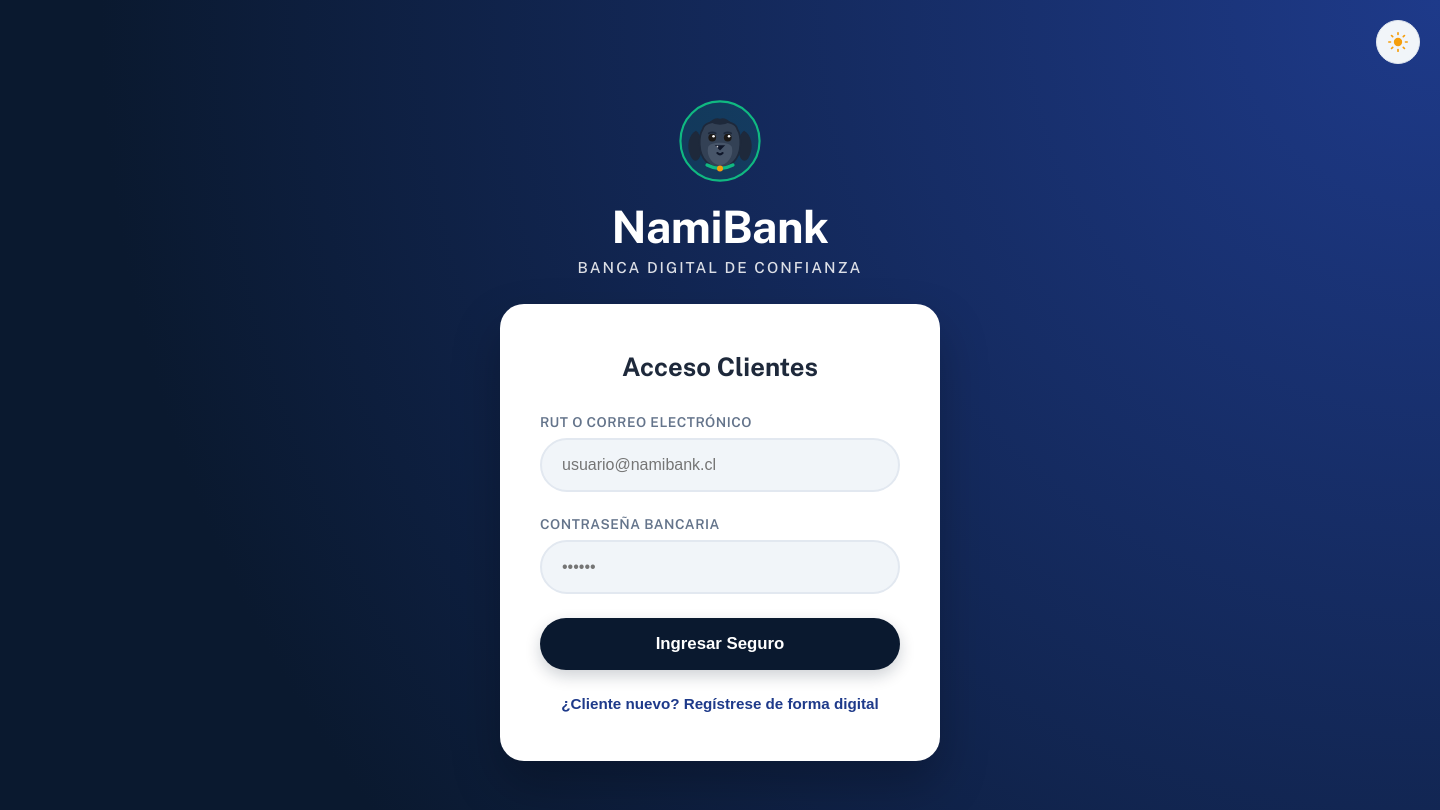
it: RT4 - Componente: Auth (Login y Registro) › 2. Muestra error si el servicio mockeado rechaza (credenciales inválidas)
Type "correo@malo.cl" into the field with placeholder "usuario@namibank.cl".
click(720, 464); type("correo@malo.cl")  # box [540,438,900,492]
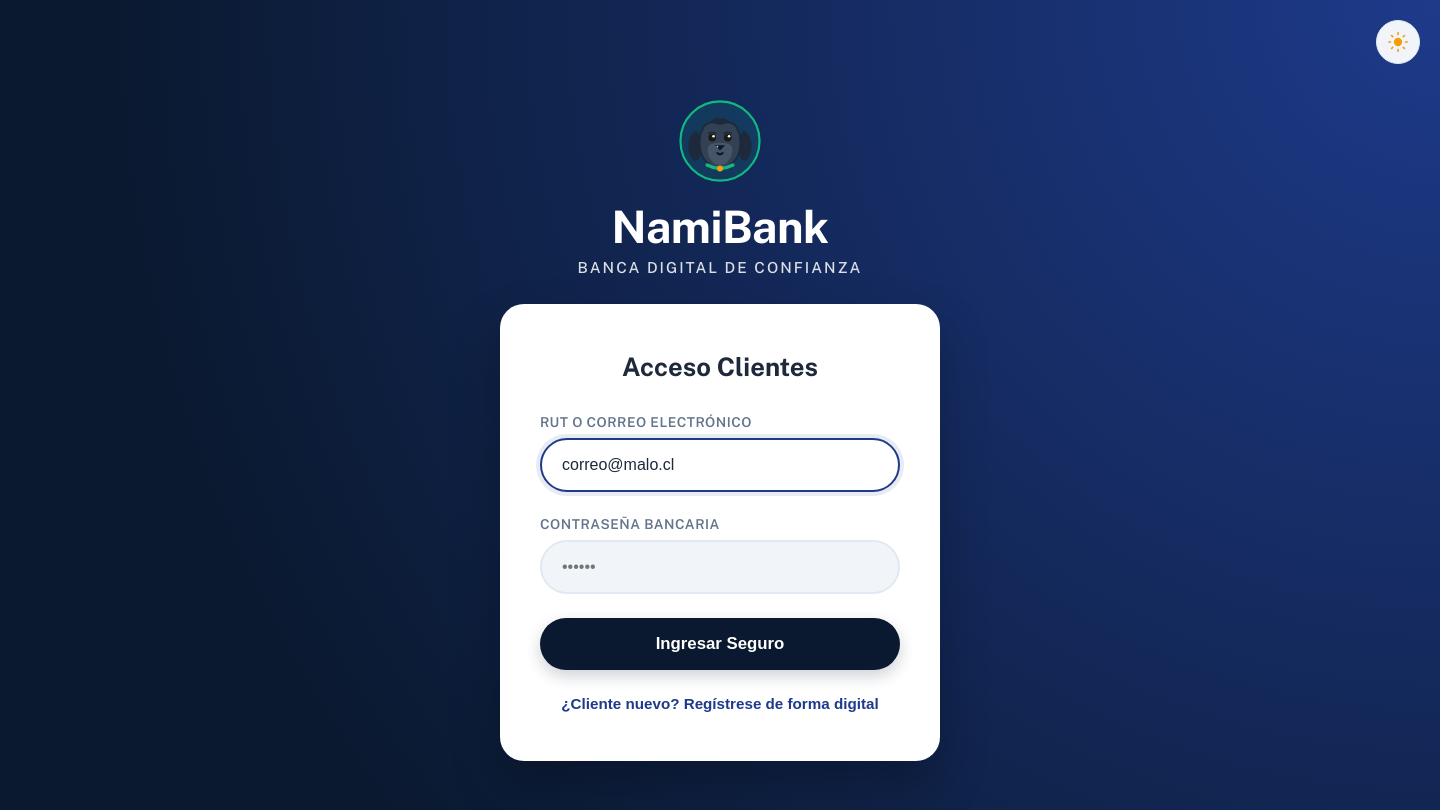
Type "123456" into the password field with placeholder "••••••".
click(720, 566); type("123456")  # box [540,540,900,594]
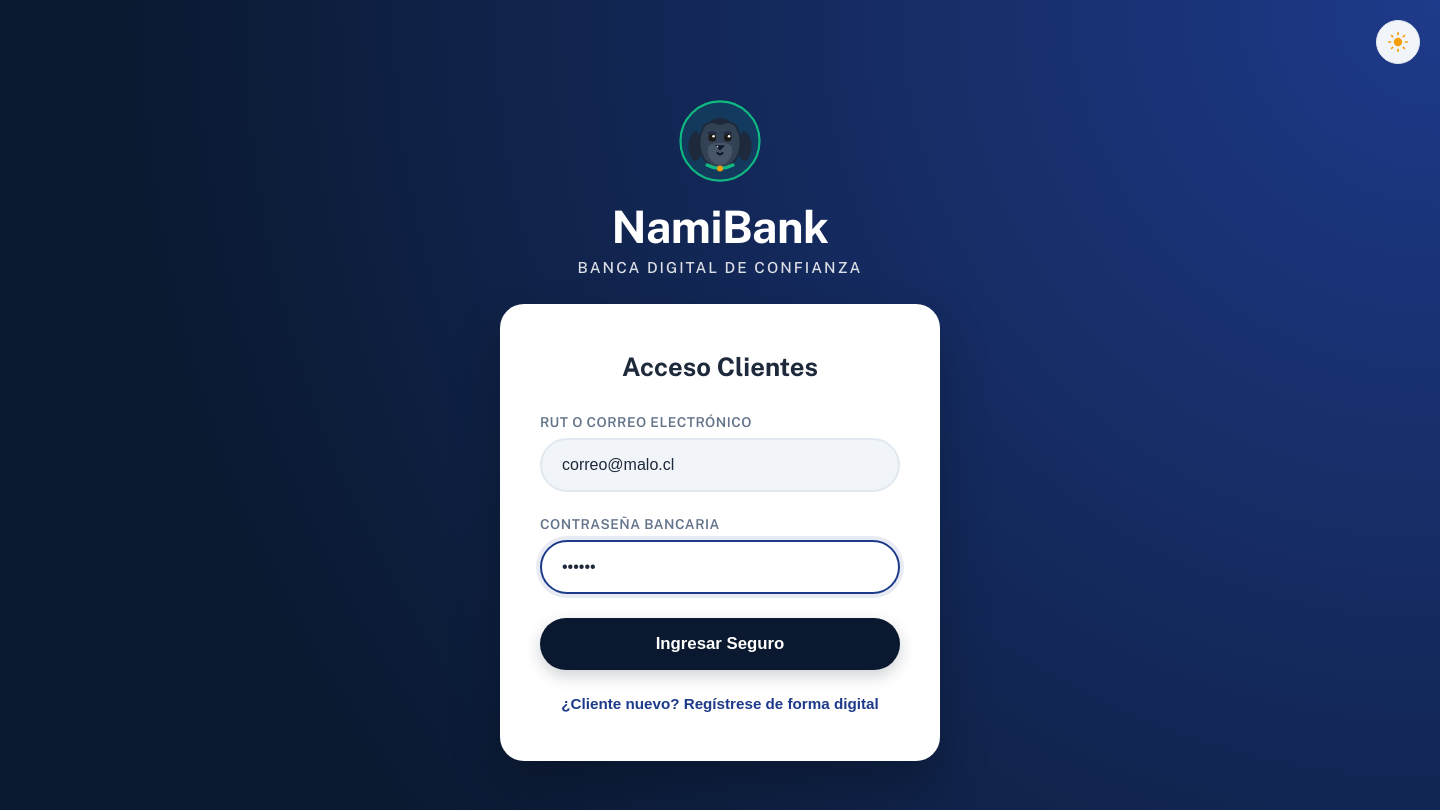
Click the button "Ingresar Seguro".
click(720, 644)  # box [540,618,900,670]
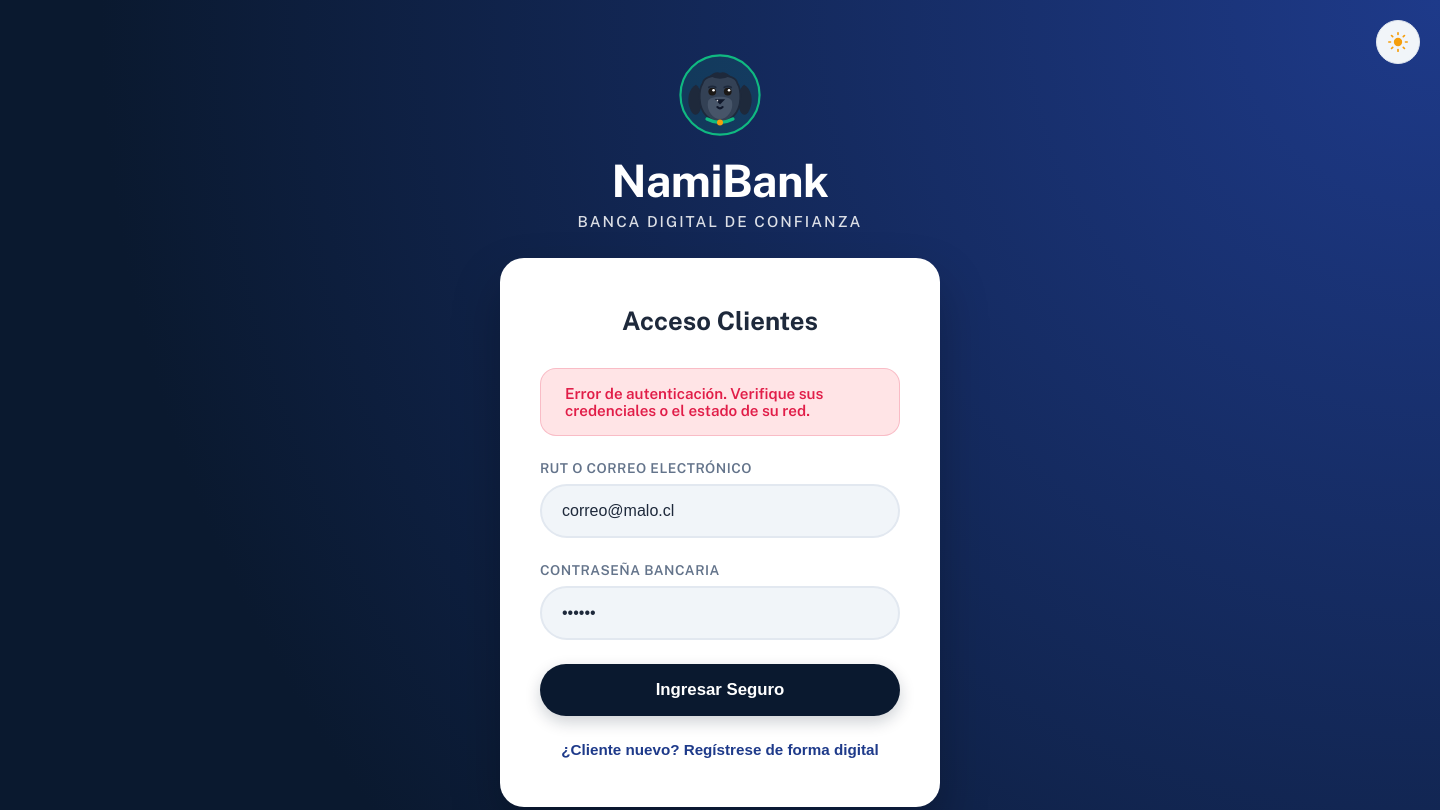
Expected: the text "Error de autenticación" is shown, [565,384,823,418]
